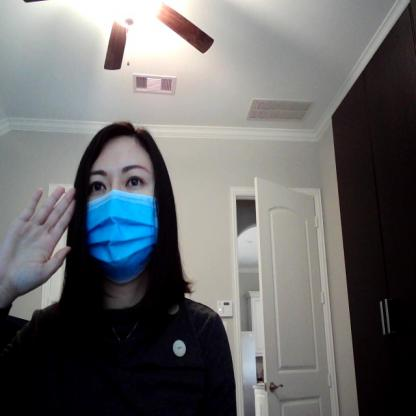hello: (3, 181, 74, 297)
